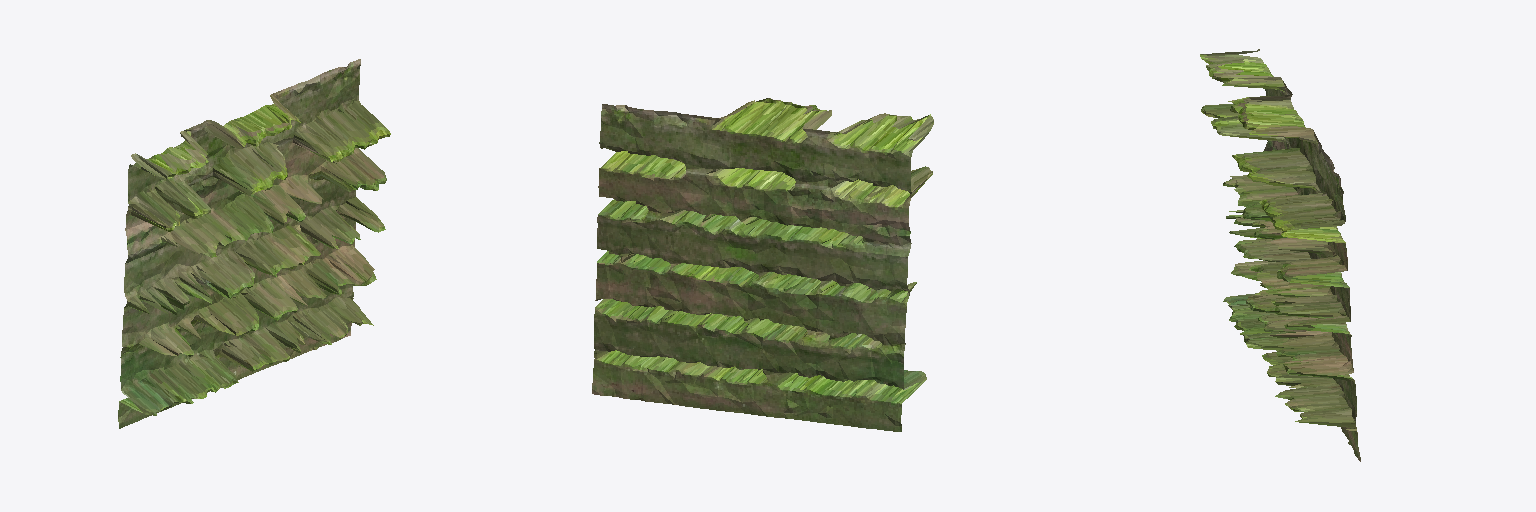
The picture shows the model from 3 angles: view 1: azimuth 30°, elevation 25°; view 2: azimuth 150°, elevation 25°; view 3: azimuth 270°, elevation 25°; orthographic projection.
Visible parts, largest first — view 1: grp1; view 2: grp1; view 3: grp1.
Part boxes in pixels (x1,y1,x2,y2): grp1: (118, 59, 390, 428); grp1: (592, 98, 933, 431); grp1: (1200, 49, 1360, 461).
Bounding box in the file's own units: 10 × 10 × 5.17.
Materials: 1 (1 with a texture image).